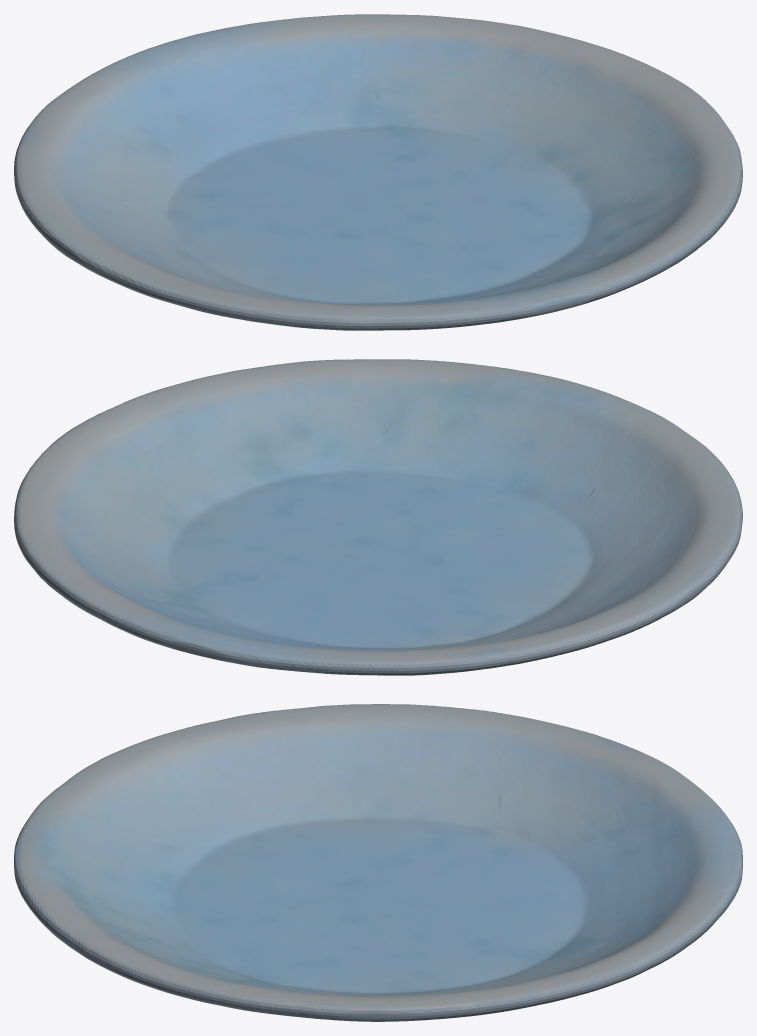
3 renders of one model, top to bottom at view 1: azimuth 30°, elevation 25°; view 2: azimuth 150°, elevation 25°; view 3: azimuth 270°, elevation 25°, orthographic.
Visible parts, largest first — view 1: Hy21_Mesh.obj; view 2: Hy21_Mesh.obj; view 3: Hy21_Mesh.obj.
Boxes of the visible parts, x1,y1,x2,y2 form: Hy21_Mesh.obj: (14, 14, 742, 330); Hy21_Mesh.obj: (14, 359, 742, 675); Hy21_Mesh.obj: (14, 704, 742, 1021).
Bounding box in the file's own units: 1.96 × 0.2172 × 1.96.
1 material, 1 textured.
